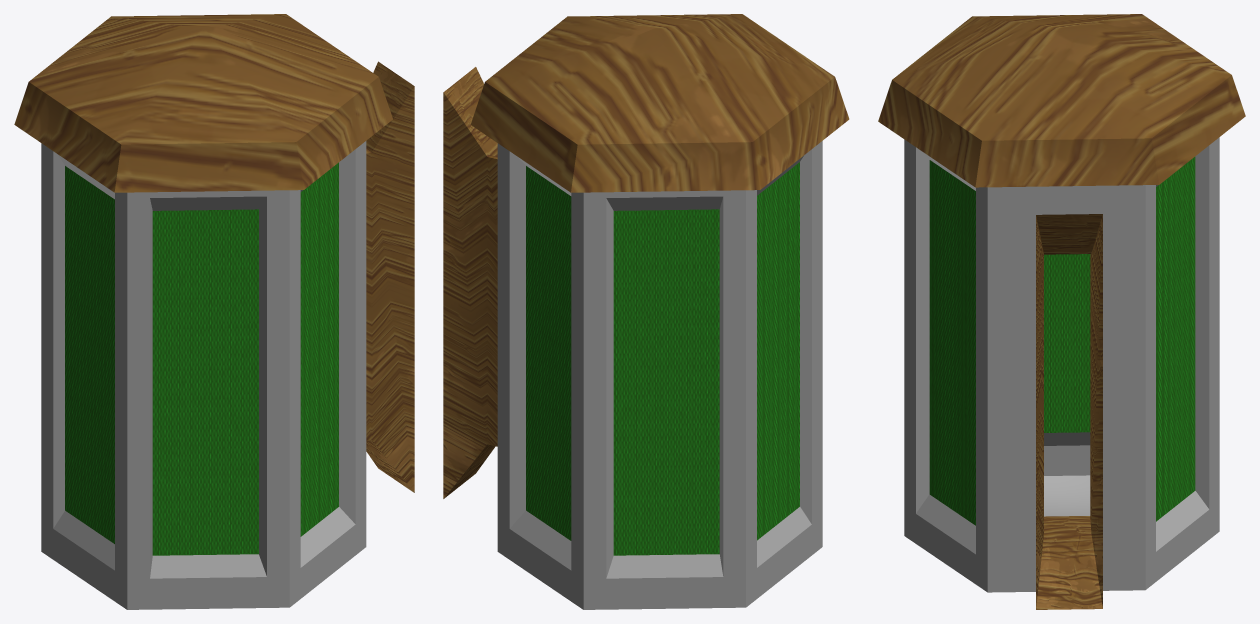
The model's file is lantern.fbx.
The picture shows the model from 3 angles, left to right: view 1: azimuth 30°, elevation 25°; view 2: azimuth 150°, elevation 25°; view 3: azimuth 270°, elevation 25°; orthographic projection. The views are drawn at different scales.
Visible parts, largest first — view 1: Lantern; view 2: Lantern; view 3: Lantern.
Part boxes in pixels (<box>): Lantern: <box>14,14,414,609</box>; Lantern: <box>443,14,849,609</box>; Lantern: <box>878,14,1245,609</box>.
Size of the model in its own units: 0.6875 by 1.05 by 0.6588.
